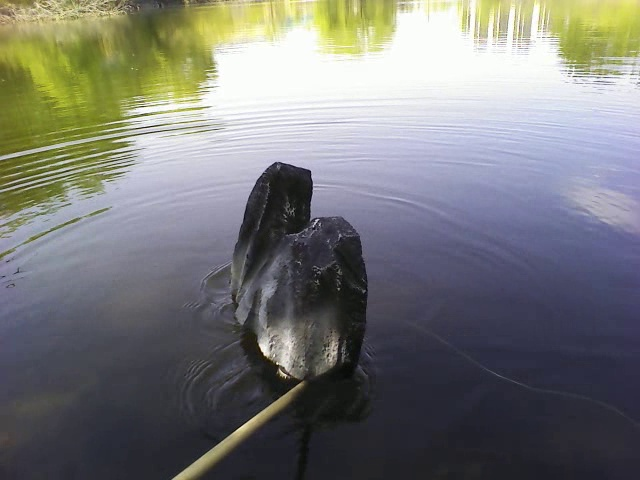rock: (225, 156, 375, 380)
